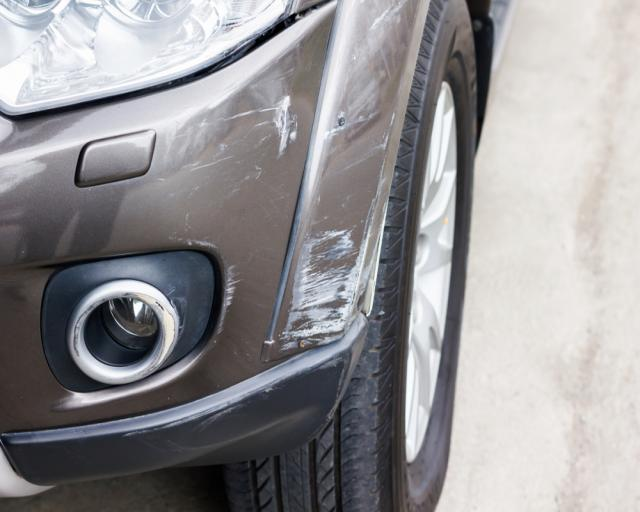scratch: (281, 0, 413, 352), (171, 84, 305, 313)
